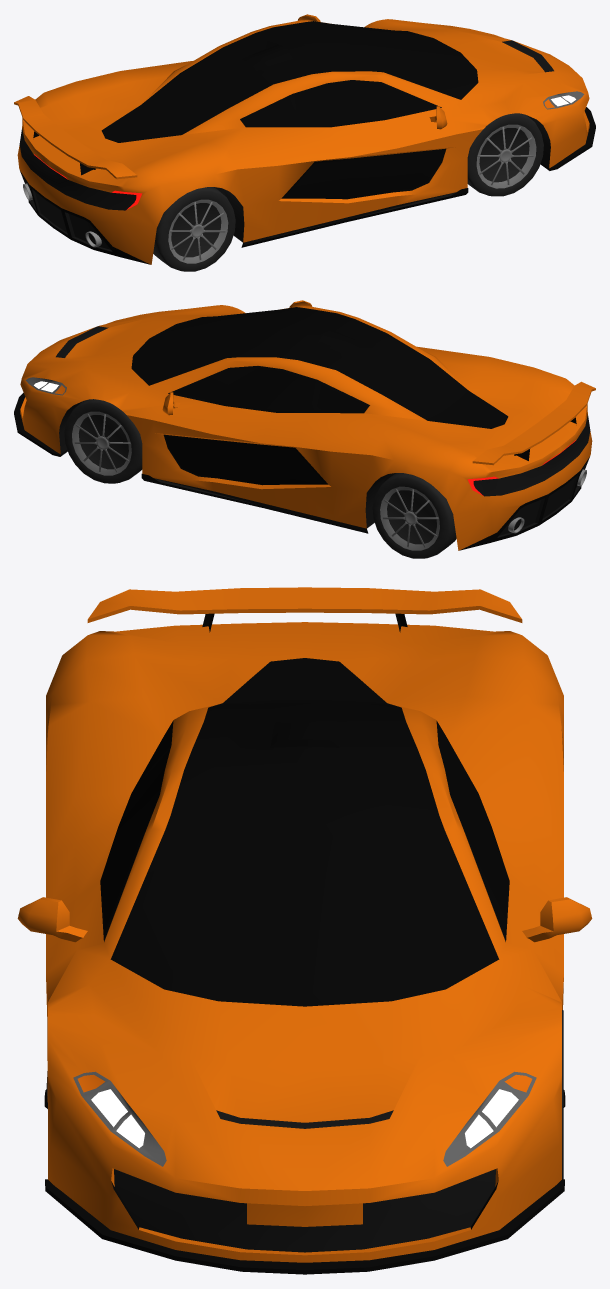
Rendered from generic_sport_car_low_poly.glb.
3 views of the same model, one above another, from view 1: azimuth 30°, elevation 25°; view 2: azimuth 150°, elevation 25°; view 3: azimuth 270°, elevation 25° (orthographic). The views are drawn at different scales.
Parts seen in each view (by area): view 1: mc.Body_4, mc-wheel.Bk.R_1, mc-wheel.Ft.R_3; view 2: mc.Body_4, mc-wheel.Bk.L_0, mc-wheel.Ft.L_2; view 3: mc.Body_4.
Boxes of the visible parts, box(x1,y1,x2,y2) form: mc.Body_4: box(14, 14, 595, 264); mc-wheel.Bk.R_1: box(153, 187, 235, 271); mc-wheel.Ft.R_3: box(467, 113, 543, 196); mc.Body_4: box(14, 300, 595, 550); mc-wheel.Bk.L_0: box(372, 473, 456, 558); mc-wheel.Ft.L_2: box(64, 399, 142, 483); mc.Body_4: box(17, 587, 592, 1274).
Size of the model in its own units: 4.54 by 1.16 by 2.12.
